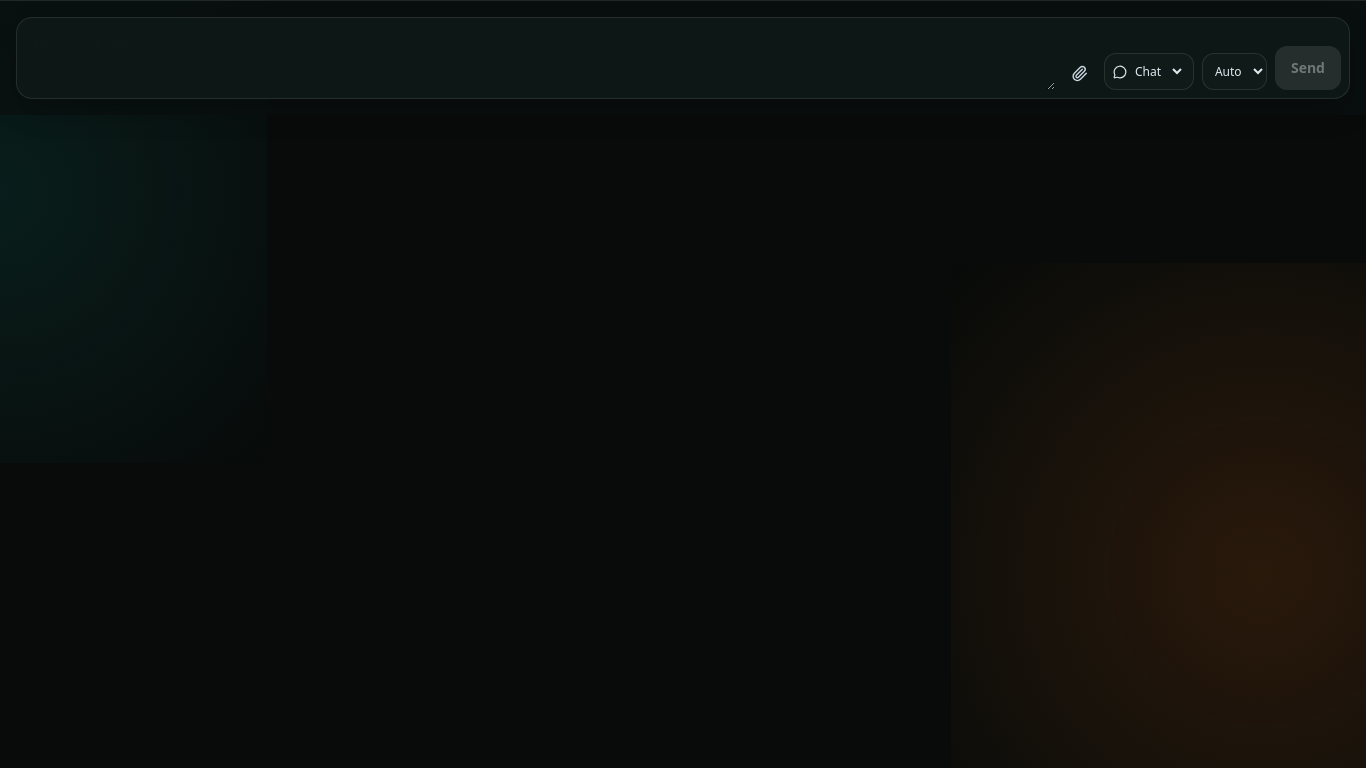
Test: MessageInput › enables send when input has text
Type "Hello!" into the text box with placeholder "Message Melo...".
click(540, 58); type("Hello!")  # box [25, 26, 1055, 90]
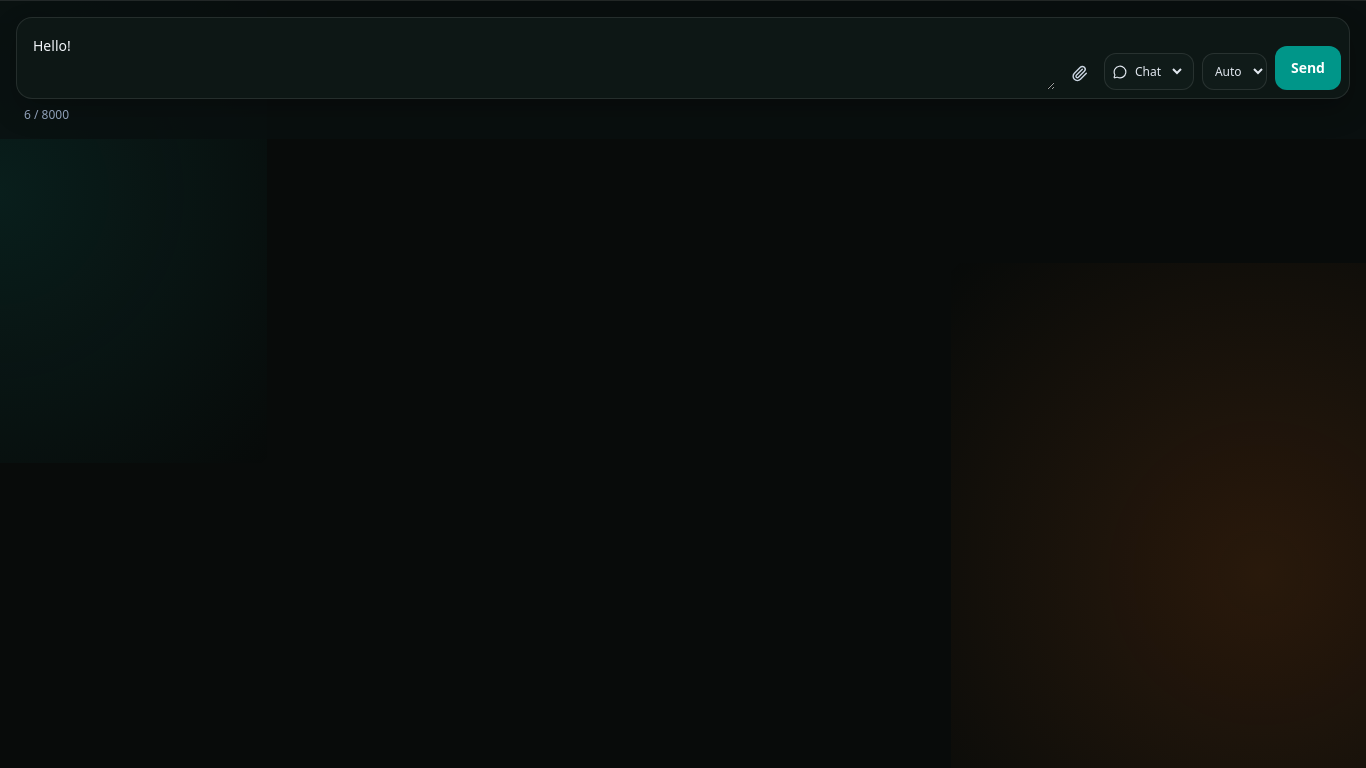
Check: the button "Send" is enabled, box [1275, 46, 1341, 90]
